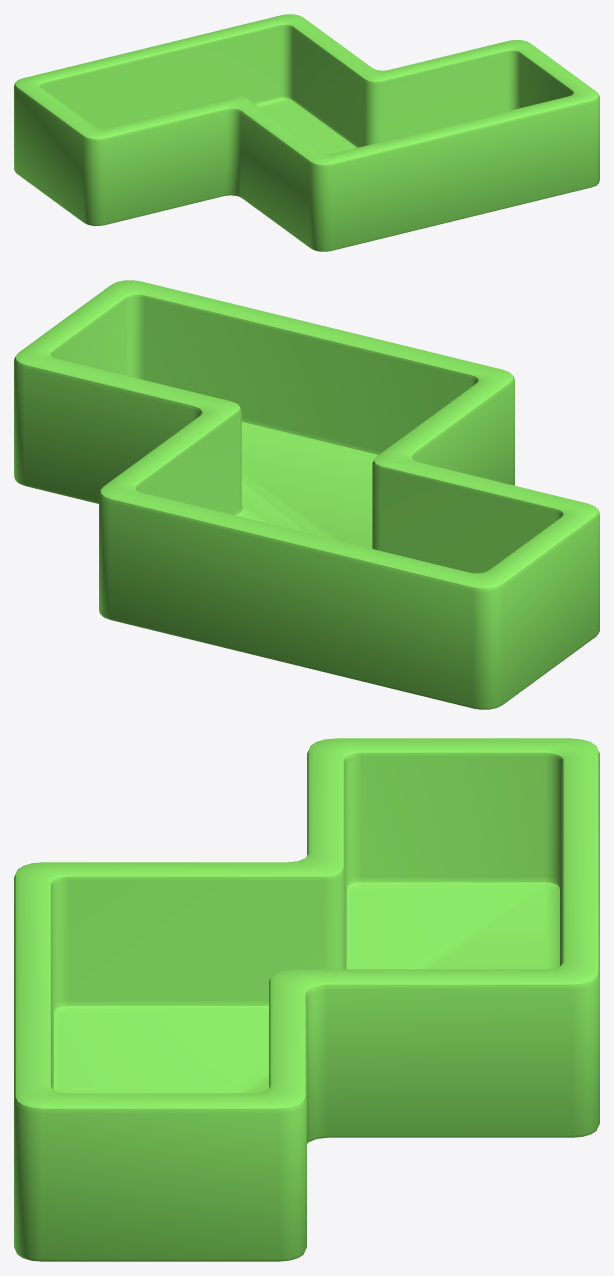
3 renders of one model, top to bottom at view 1: azimuth 30°, elevation 25°; view 2: azimuth 150°, elevation 25°; view 3: azimuth 270°, elevation 25°, orthographic. The views are drawn at different scales.
Parts seen in each view (by area): view 1: Shape_Z4; view 2: Shape_Z4; view 3: Shape_Z4.
Part boxes in pixels (x1,y1,x2,y2): Shape_Z4: [14, 14, 599, 251]; Shape_Z4: [14, 280, 599, 709]; Shape_Z4: [14, 738, 599, 1261].
Bounding box in the file's own units: 2.55 × 0.5 × 1.7.
